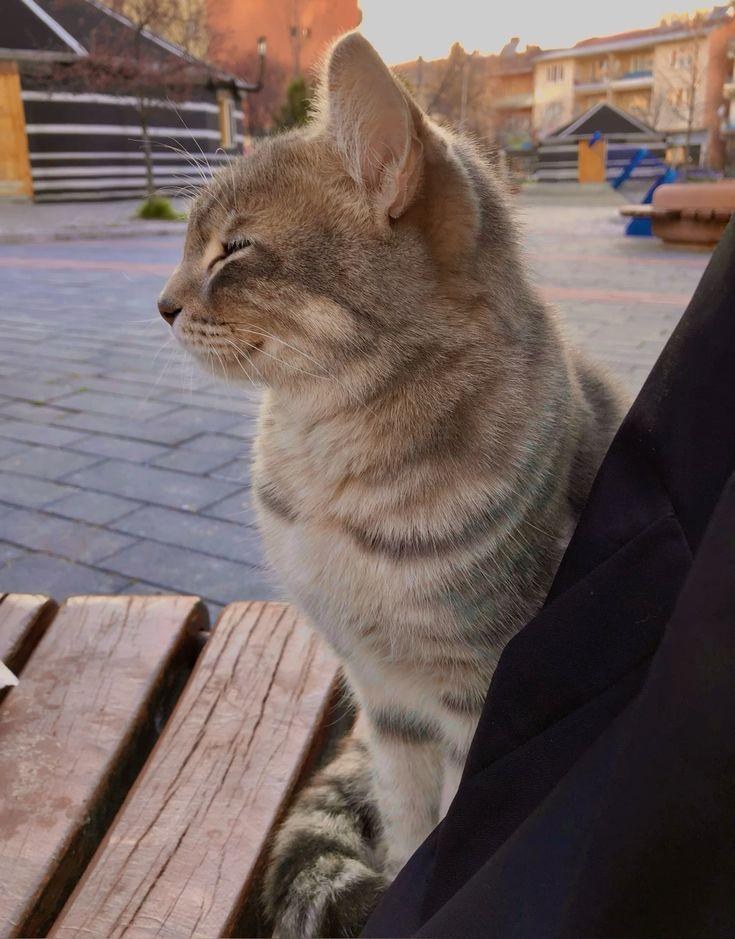kedo: (158, 34, 628, 602)
